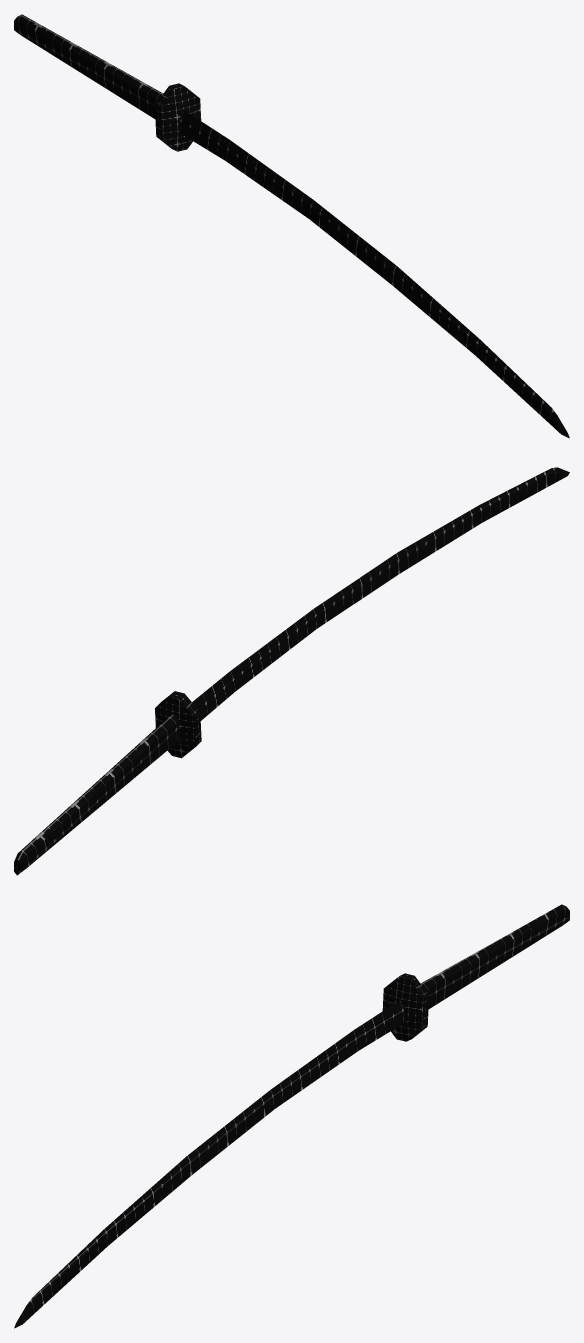
Rendered from Katana_TestModel.fbx.
3 renders of one model, top to bottom at view 1: azimuth 30°, elevation 25°; view 2: azimuth 150°, elevation 25°; view 3: azimuth 330°, elevation 25°, orthographic.
Parts seen in each view (by area): view 1: LOWKata; view 2: LOWKata; view 3: LOWKata.
Part boxes in pixels (bbox=[...]): LOWKata: bbox=[14, 14, 569, 438]; LOWKata: bbox=[14, 467, 569, 875]; LOWKata: bbox=[14, 904, 569, 1328].
Size of the model in its own units: 0.0691 by 0.1092 by 1.66.
1 material, 1 textured.
